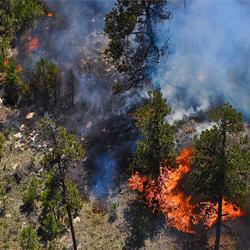fire: (160, 169, 191, 224)
